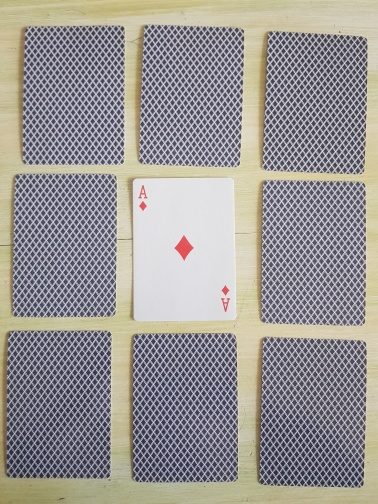ace: (130, 176, 239, 323)
